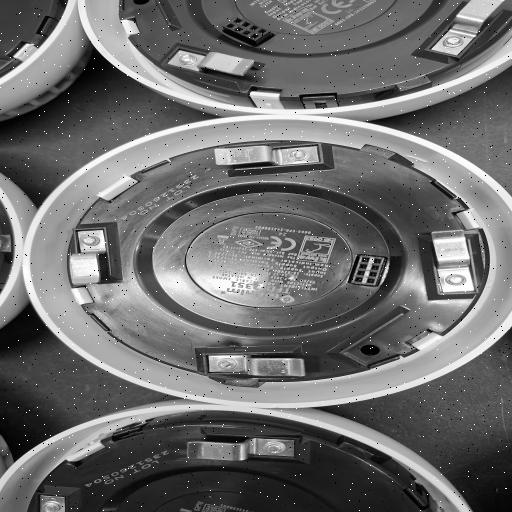konnektor: (341, 246, 409, 298)
yaysiz: (191, 339, 322, 384), (57, 222, 127, 301), (186, 142, 334, 178), (182, 428, 306, 464), (427, 216, 478, 302)
